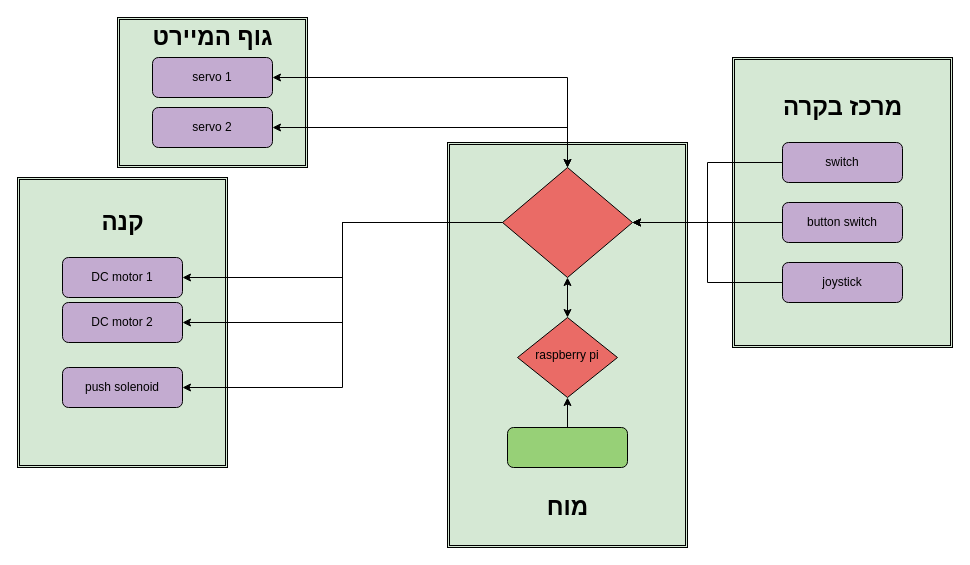
Some shapes in this 970 by 565 pixel diagram are drawn without their labels. The shapes that lost their labels are listed below. From the top down, each one's box as (x1, y1, x2, y2) in pixels, then its label:
(502, 166, 632, 278): arduino uno
(506, 426, 628, 468): camera
